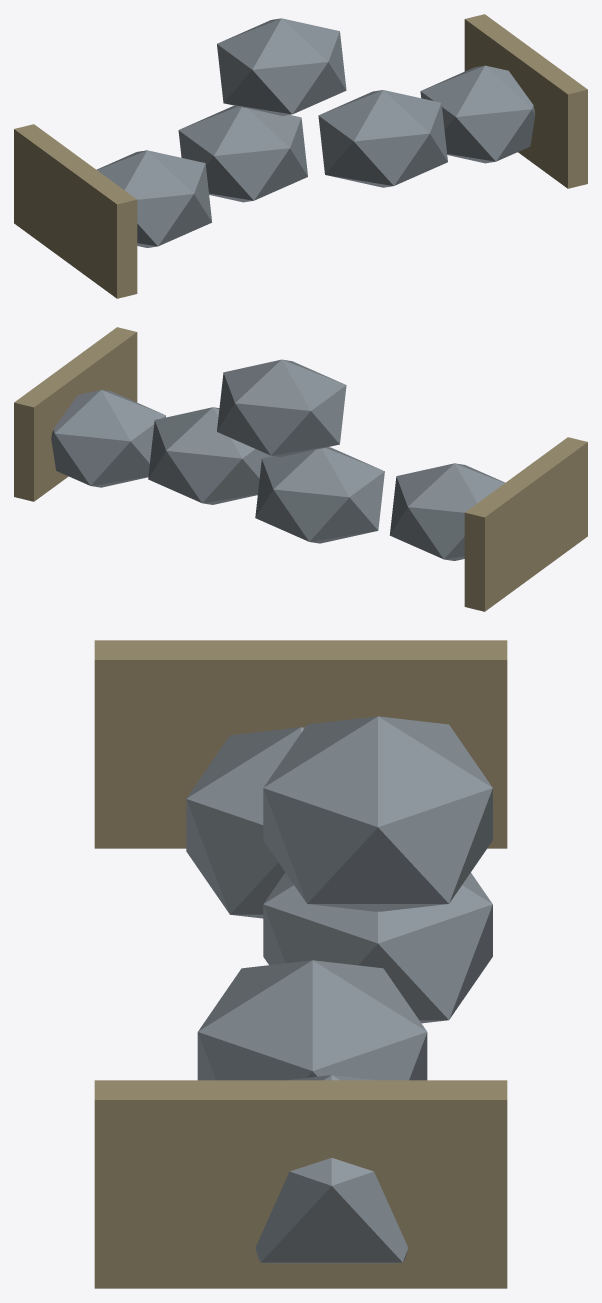
The model's file is map-exclusive-v3__iron_15.glb.
3 renders of one model, top to bottom at view 1: azimuth 30°, elevation 25°; view 2: azimuth 150°, elevation 25°; view 3: azimuth 270°, elevation 25°, orthographic. The views are drawn at different scales.
Visible parts, largest first — view 1: iron_15; view 2: iron_15; view 3: iron_15.
Boxes of the visible parts, x1,y1,x2,y2 form: iron_15: (14,14,587,298); iron_15: (14,327,587,611); iron_15: (94,640,507,1288).
Bounding box in the file's own units: 2.91 × 1.05 × 1.07.
